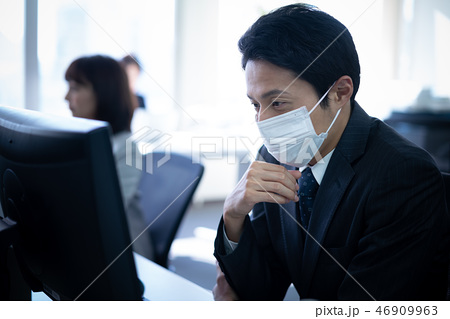mask: (240, 107, 325, 160)
